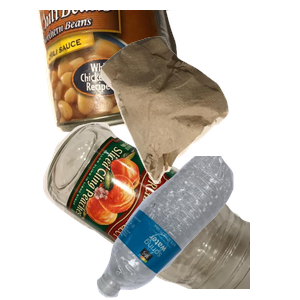glass: (41, 120, 281, 300)
metal: (34, 10, 213, 135)
plastic: (94, 156, 300, 300)
trash: (98, 34, 300, 211)
